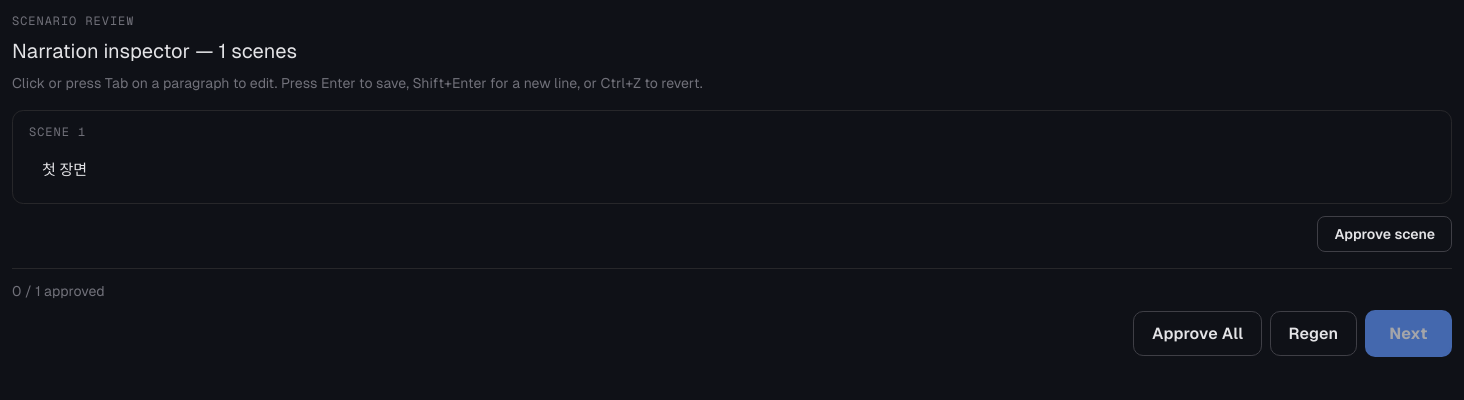
it: ScenarioInspector › keeps approve button enabled and shows error on failure
Note: Approve the scene first so the overall button becomes active.
Click the button with aria-label "approve scene 1": (1385, 234) [1317,216,1452,252]
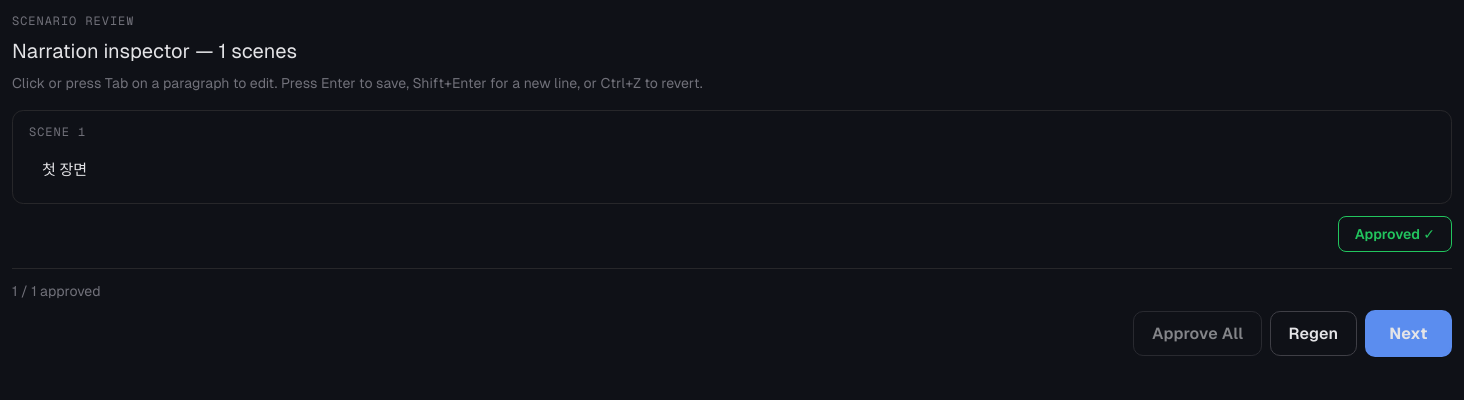
Check: the button with aria-label "approve scenario" is enabled
Click the button with aria-label "approve scenario": (1408, 334) [1365,310,1452,357]
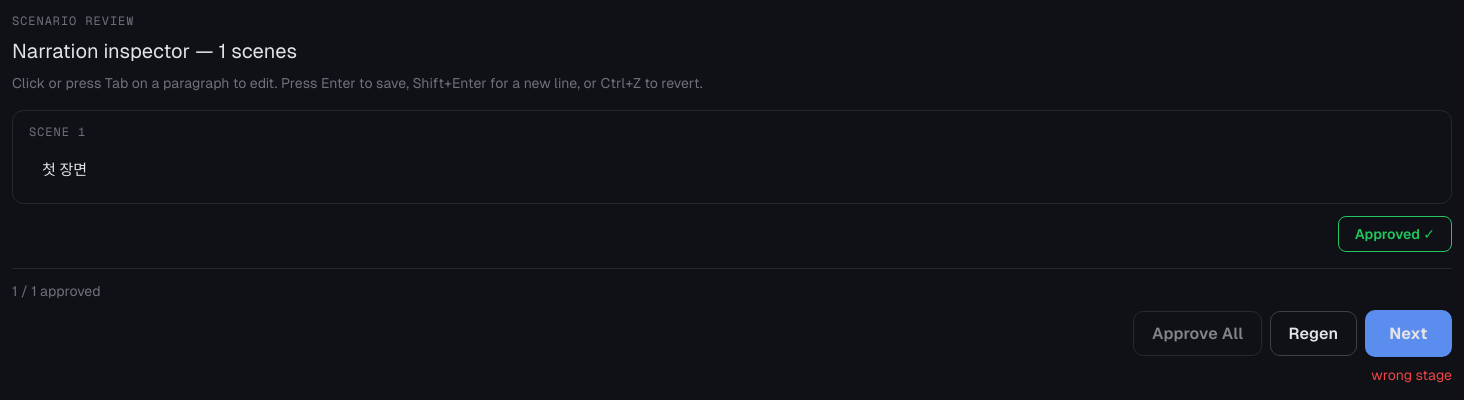
Check: the button with aria-label "approve scenario" is enabled, box [1365,310,1452,357]
Check: the message reads "wrong stage", box [1371,367,1452,383]
